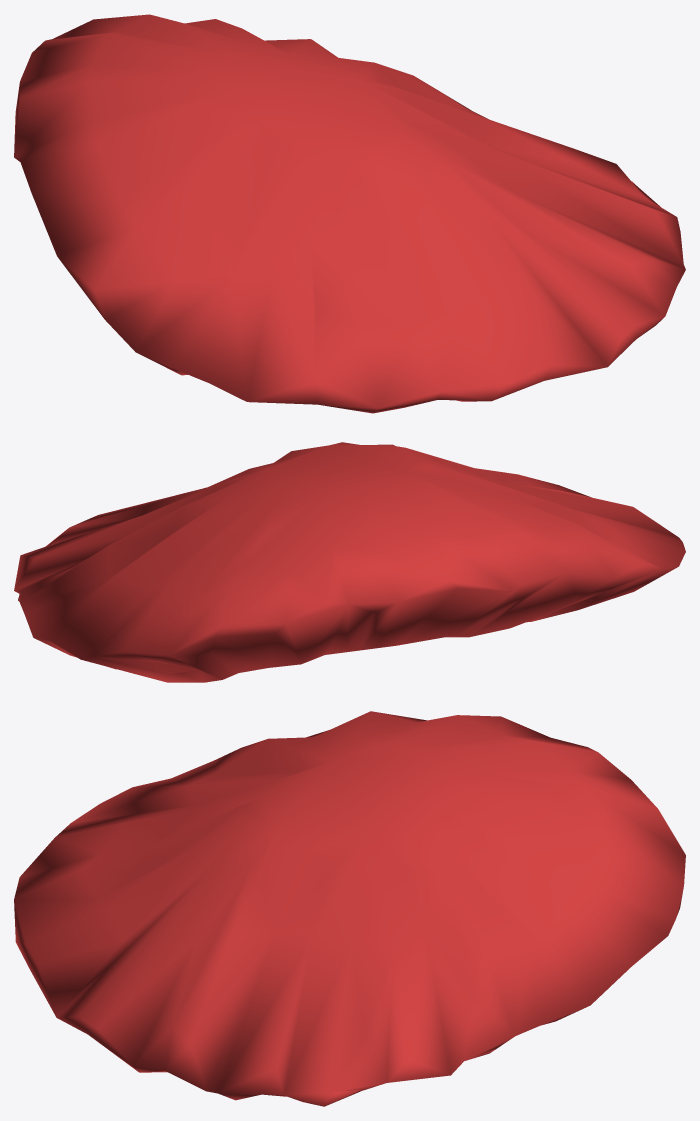
The model's file is SM_mushroom_red_03.fbx.
3 renders of one model, top to bottom at view 1: azimuth 30°, elevation 25°; view 2: azimuth 150°, elevation 25°; view 3: azimuth 270°, elevation 25°, orthographic. The views are drawn at different scales.
Visible parts, largest first — view 1: mushroom_red_03; view 2: mushroom_red_03; view 3: mushroom_red_03.
Boxes of the visible parts, bbox=[...] form: mushroom_red_03: bbox=[14, 14, 685, 413]; mushroom_red_03: bbox=[14, 442, 685, 682]; mushroom_red_03: bbox=[14, 711, 685, 1106].
Bounding box in the file's own units: 437 × 164 × 458.
